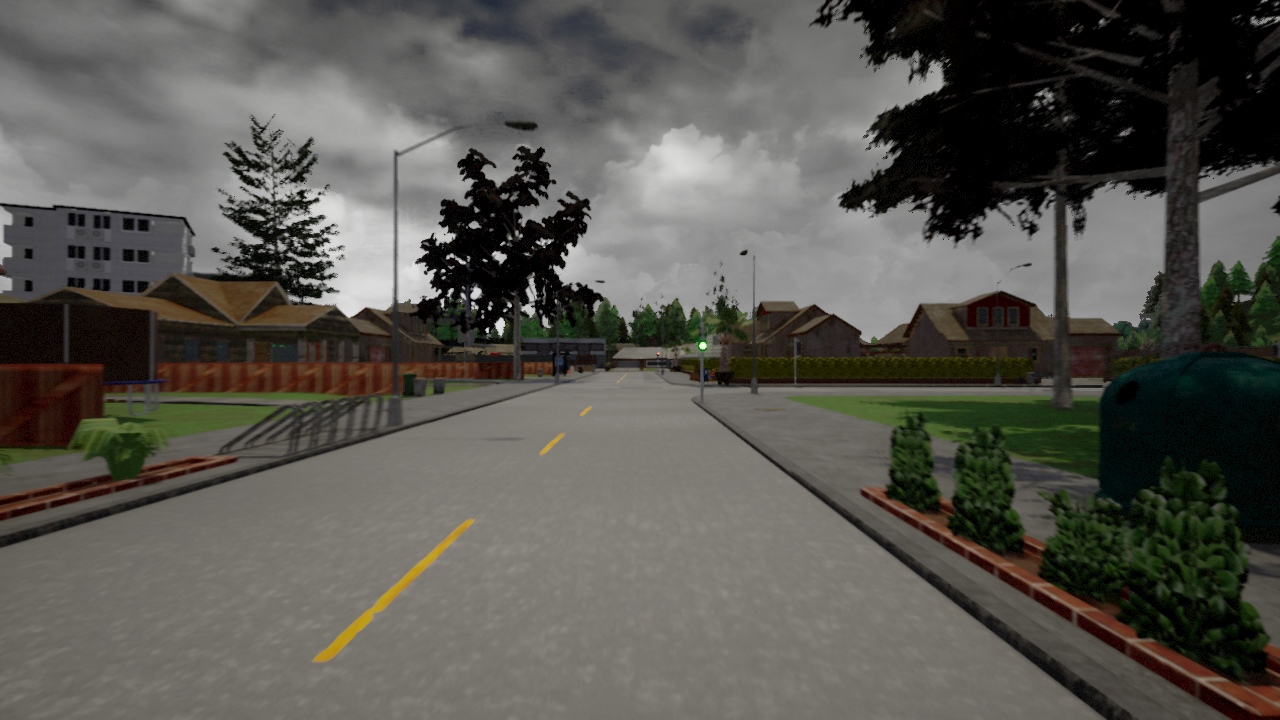green: (697, 325, 709, 352)
